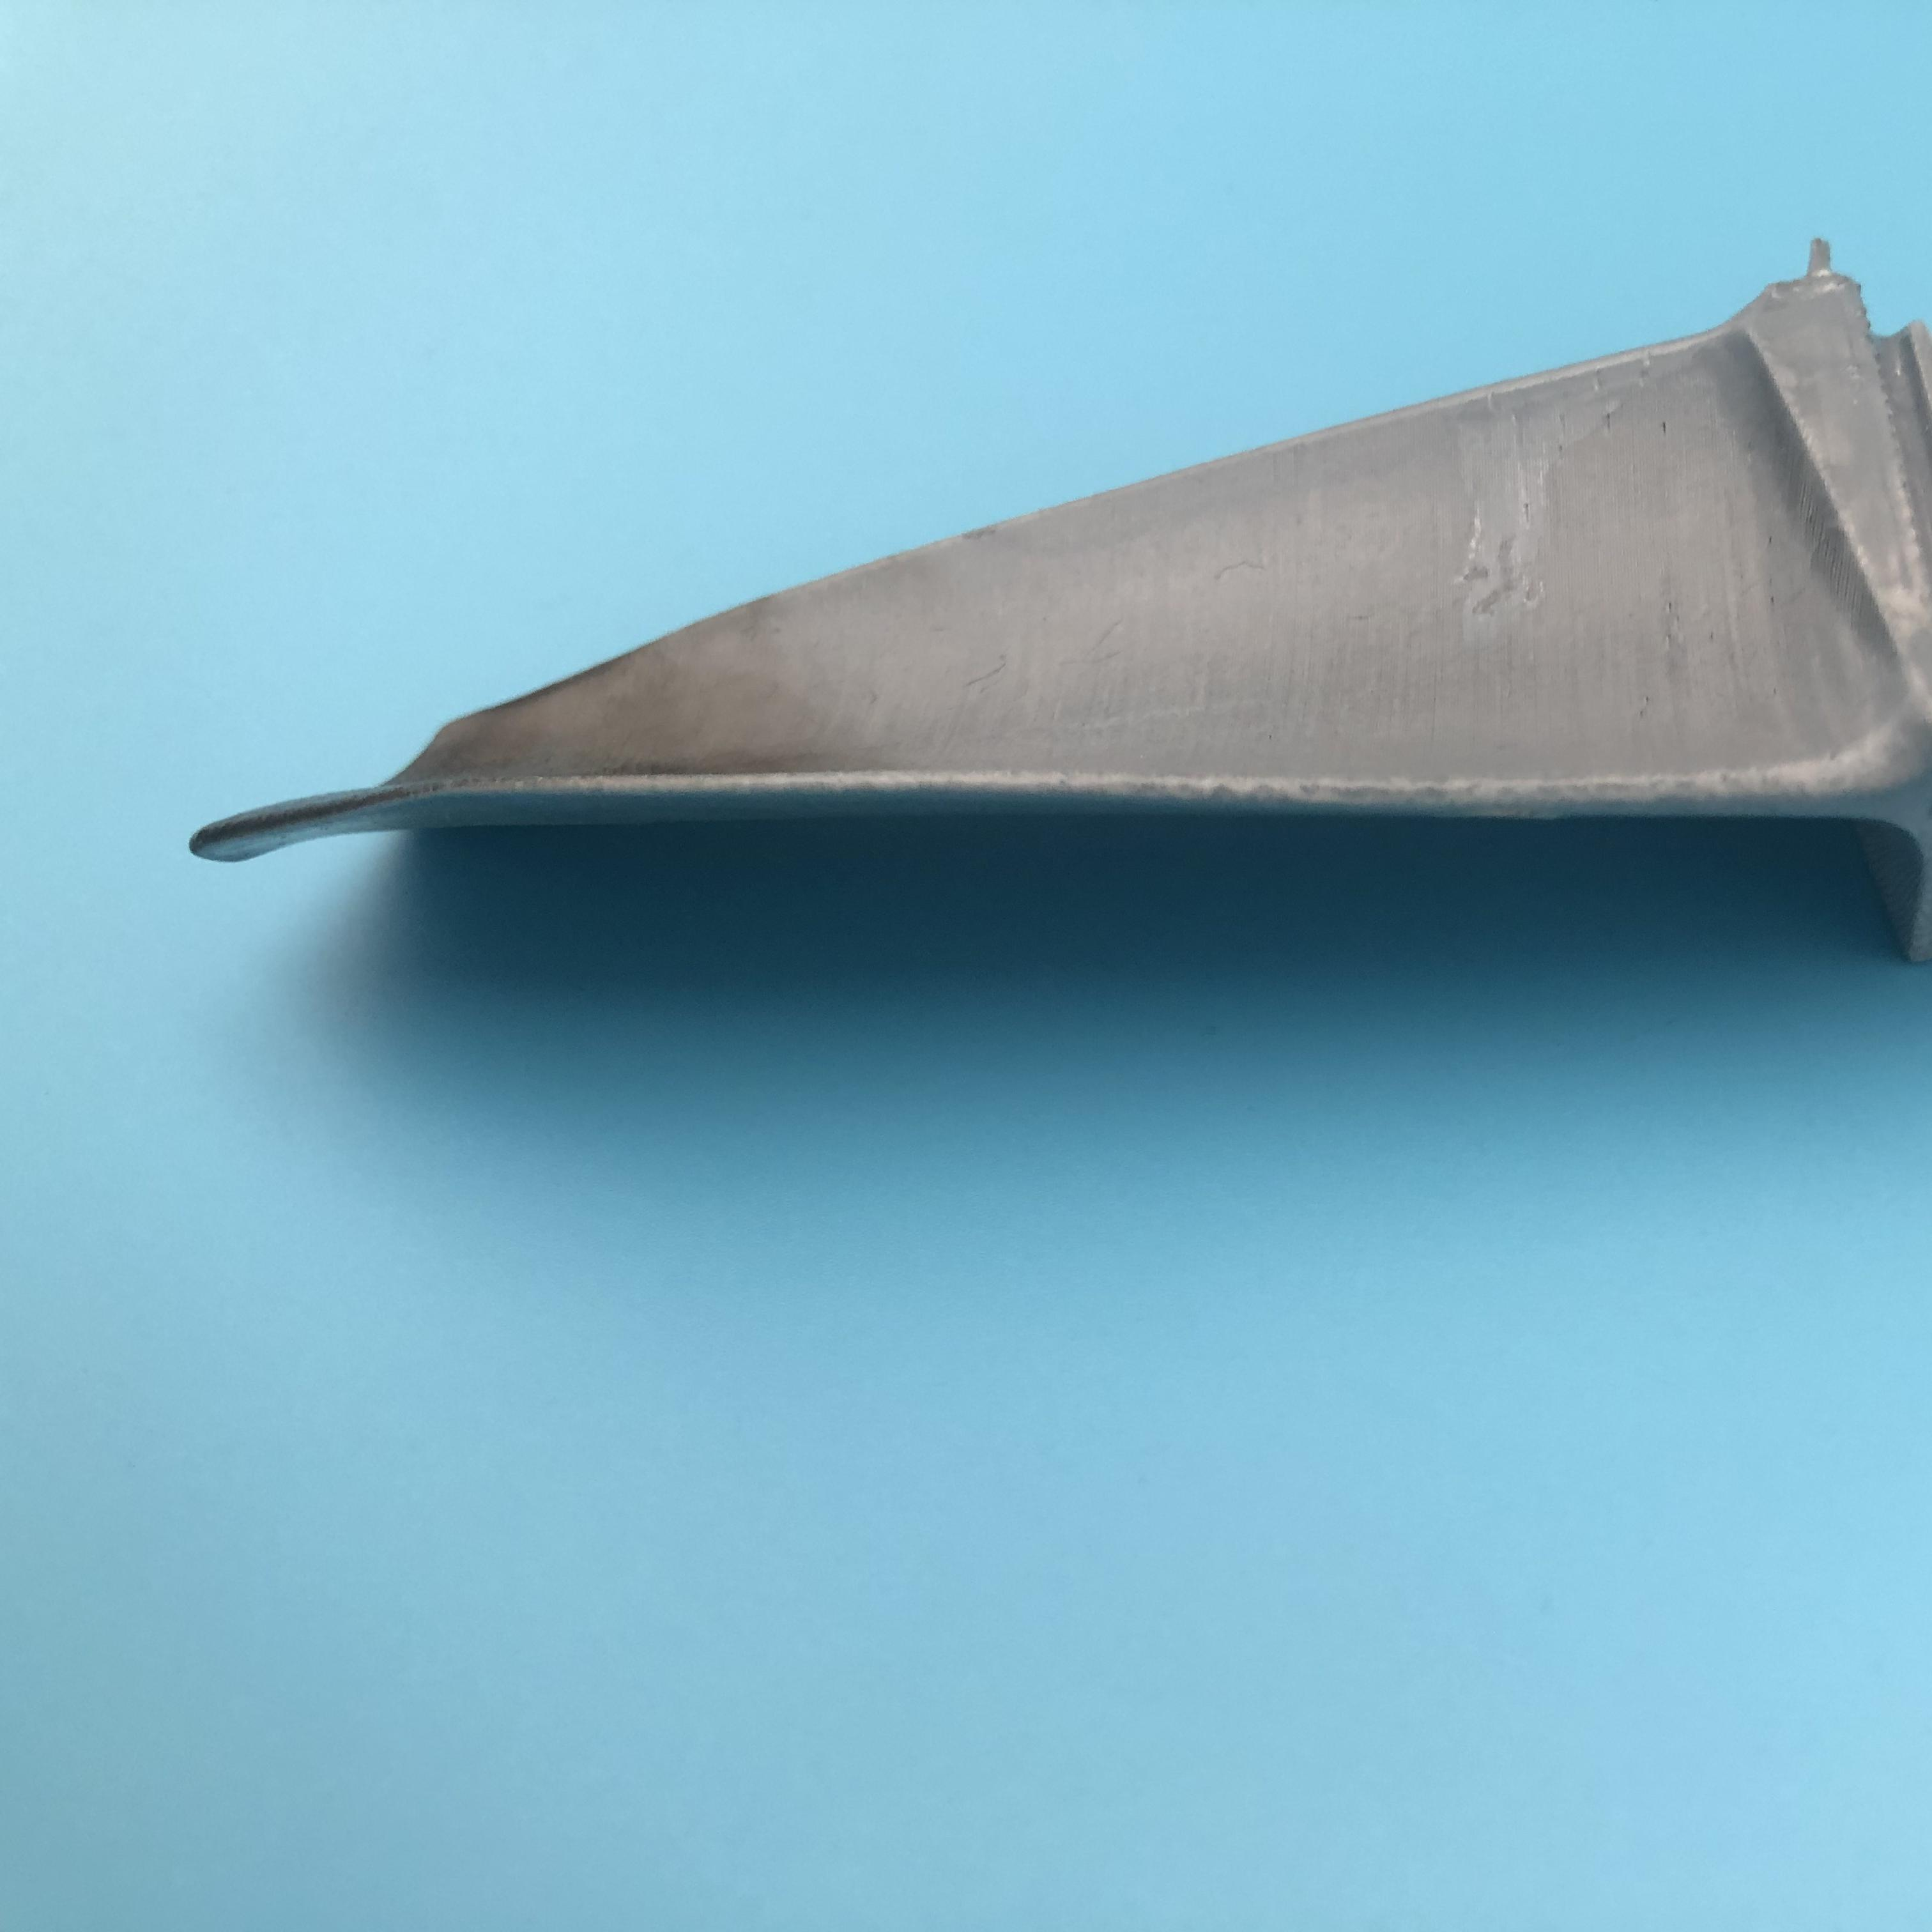ablation: (409, 690, 826, 780)
